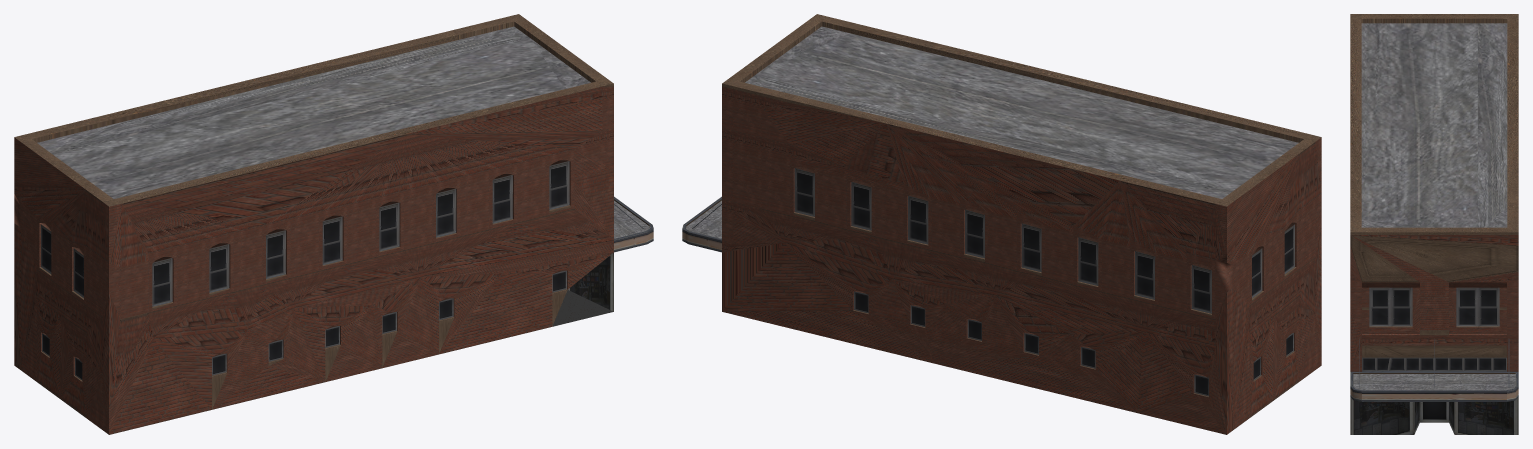
The model's file is brick_shop.glb.
3 renders of one model, left to right at view 1: azimuth 30°, elevation 25°; view 2: azimuth 150°, elevation 25°; view 3: azimuth 270°, elevation 25°, orthographic. The views are drawn at different scales.
Parts seen in each view (by area): view 1: brick_shop_lo; view 2: brick_shop_lo; view 3: brick_shop_lo.
Boxes of the visible parts, <box> form: brick_shop_lo: <box>14,14,653,434</box>; brick_shop_lo: <box>682,14,1321,434</box>; brick_shop_lo: <box>1350,14,1518,434</box>.
Size of the model in its own units: 16 by 6.35 by 4.78.
1 material, 1 textured.
